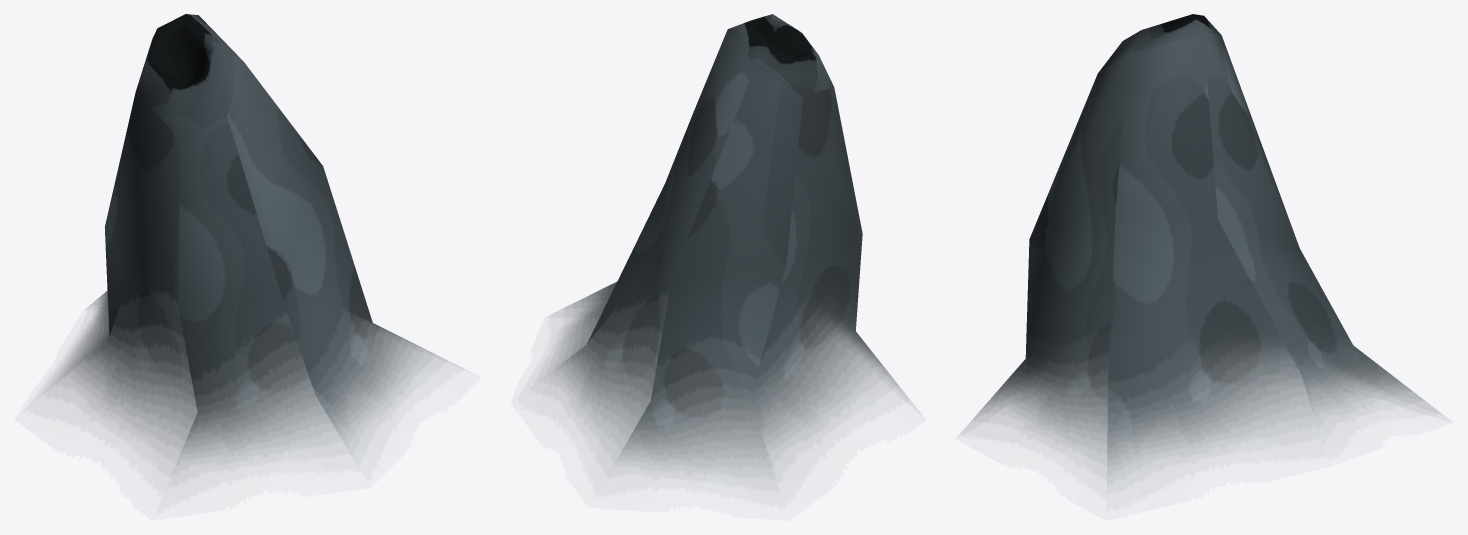
Rendered from Volcanic Vent 1x 1_preview_3DS_simplified.glb.
3 renders of one model, left to right at view 1: azimuth 30°, elevation 25°; view 2: azimuth 150°, elevation 25°; view 3: azimuth 270°, elevation 25°, orthographic.
Parts seen in each view (by area): view 1: Marine Park Empire model; view 2: Marine Park Empire model; view 3: Marine Park Empire model.
Part boxes in pixels (left/top/right/bottom): Marine Park Empire model: left=37, top=14, right=463, bottom=491; Marine Park Empire model: left=529, top=14, right=919, bottom=491; Marine Park Empire model: left=959, top=14, right=1442, bottom=494.
Bounding box in the file's own units: 34.04 × 39.1 × 41.88.
1 material, 1 textured.
